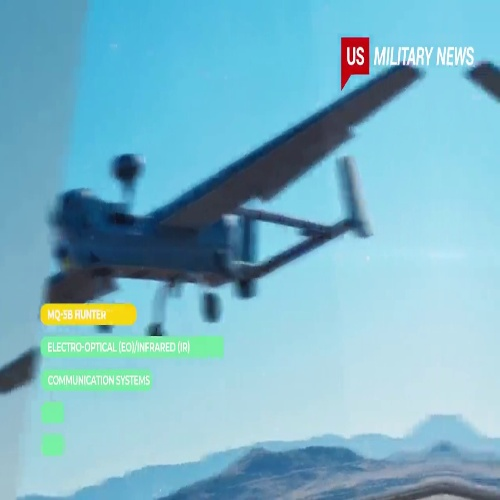uav: (32, 64, 428, 339)
